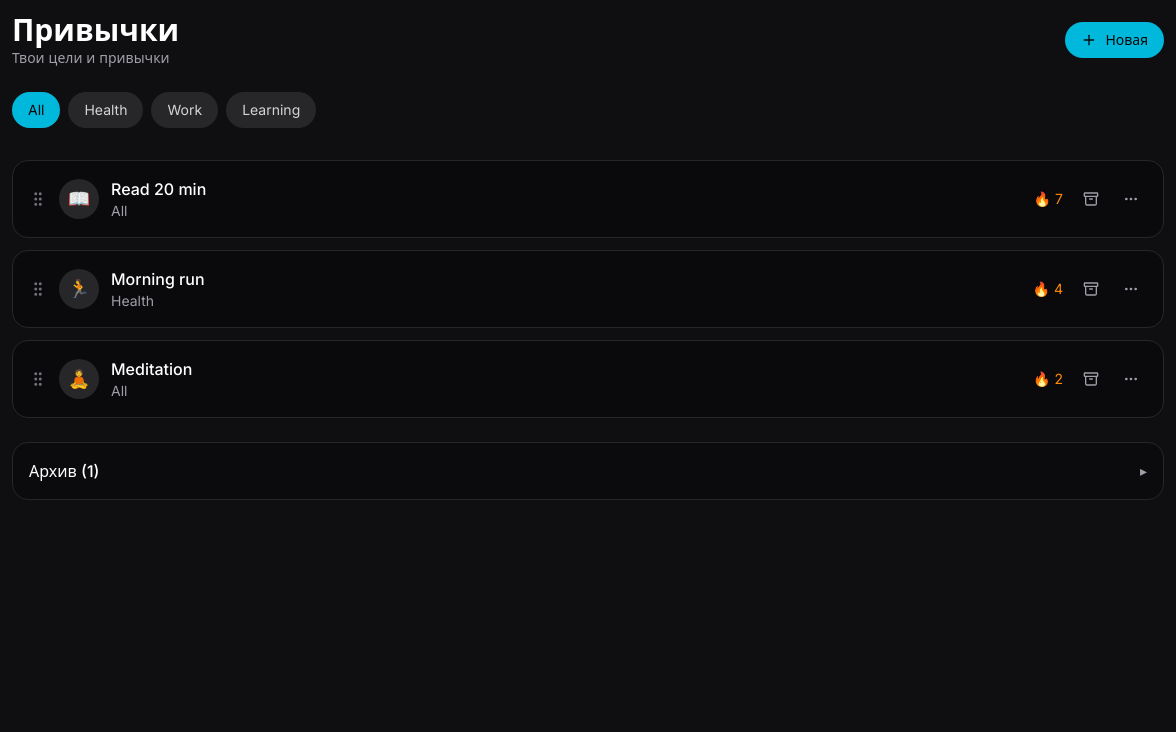
Test case: HabitsPage › hides an archived habit from the active list
Click the button named "archive" in the row of "Read 20 min": (1091, 199) [1075,183,1107,215]
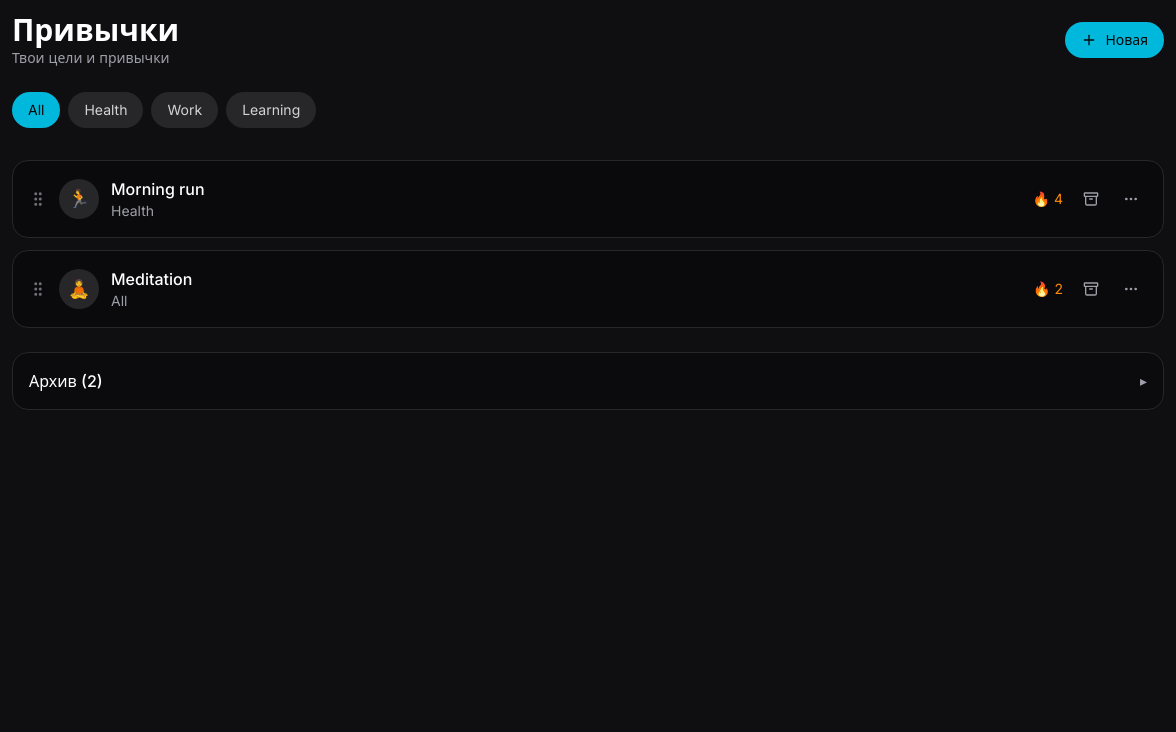
Expected: the text "Read 20 min" is gone
